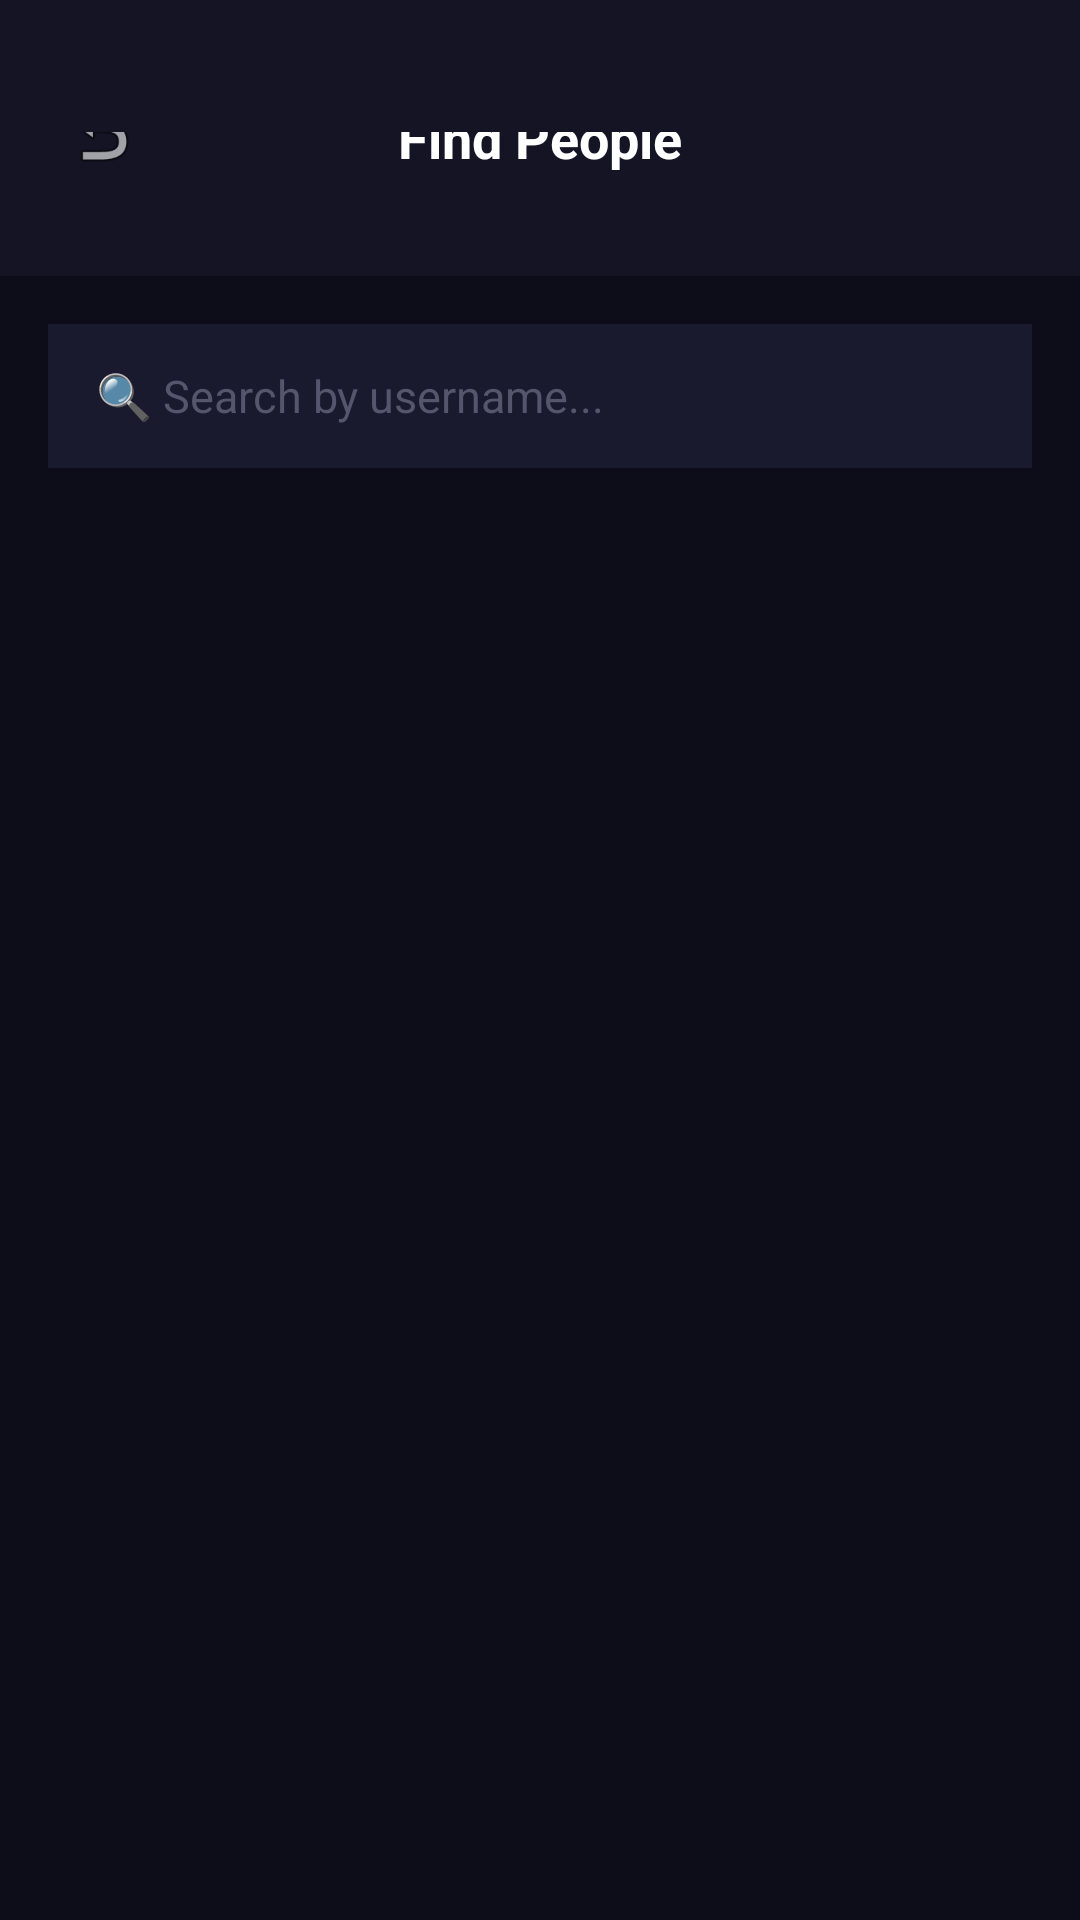

Icon click points for this 1080w x 1920h phone screenshot, format [x,y]:
revert: [105,146]
